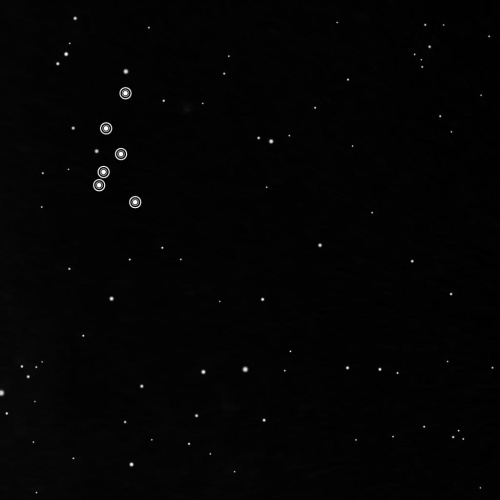cassiopeia: (89, 83, 147, 213)
